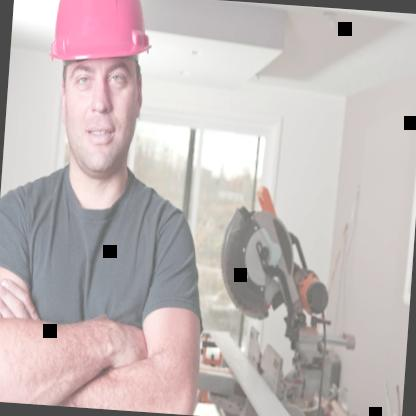helmet: (29, 0, 167, 183)
